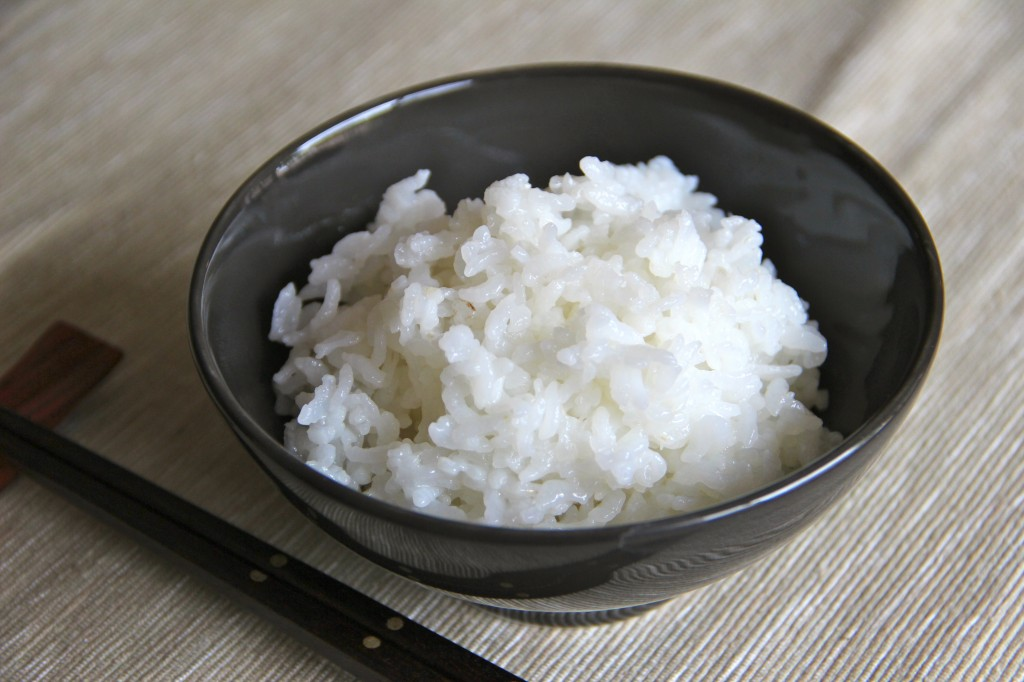rice: (255, 124, 876, 534)
